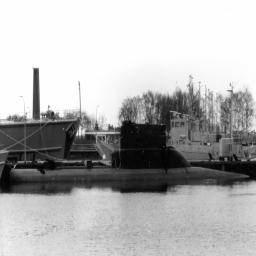submarine: (11, 121, 252, 184)
